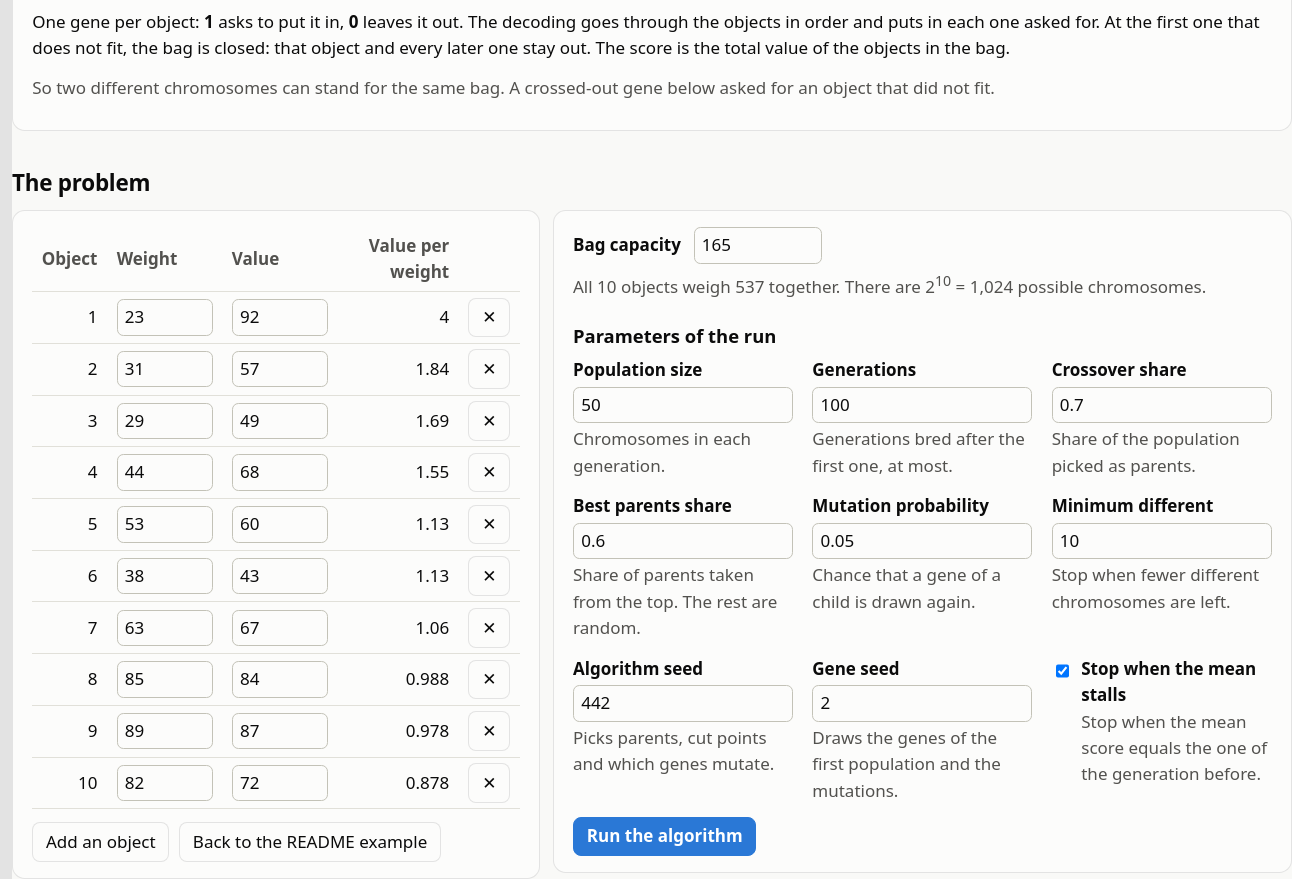
Test case: Knapsack page › shows the error of a run the server refuses
(page scrolled)
Check: the heading "The problem" is shown, box [12, 167, 150, 198]
Click the button "Run the algorithm" at (665,837), box [573, 817, 756, 856]
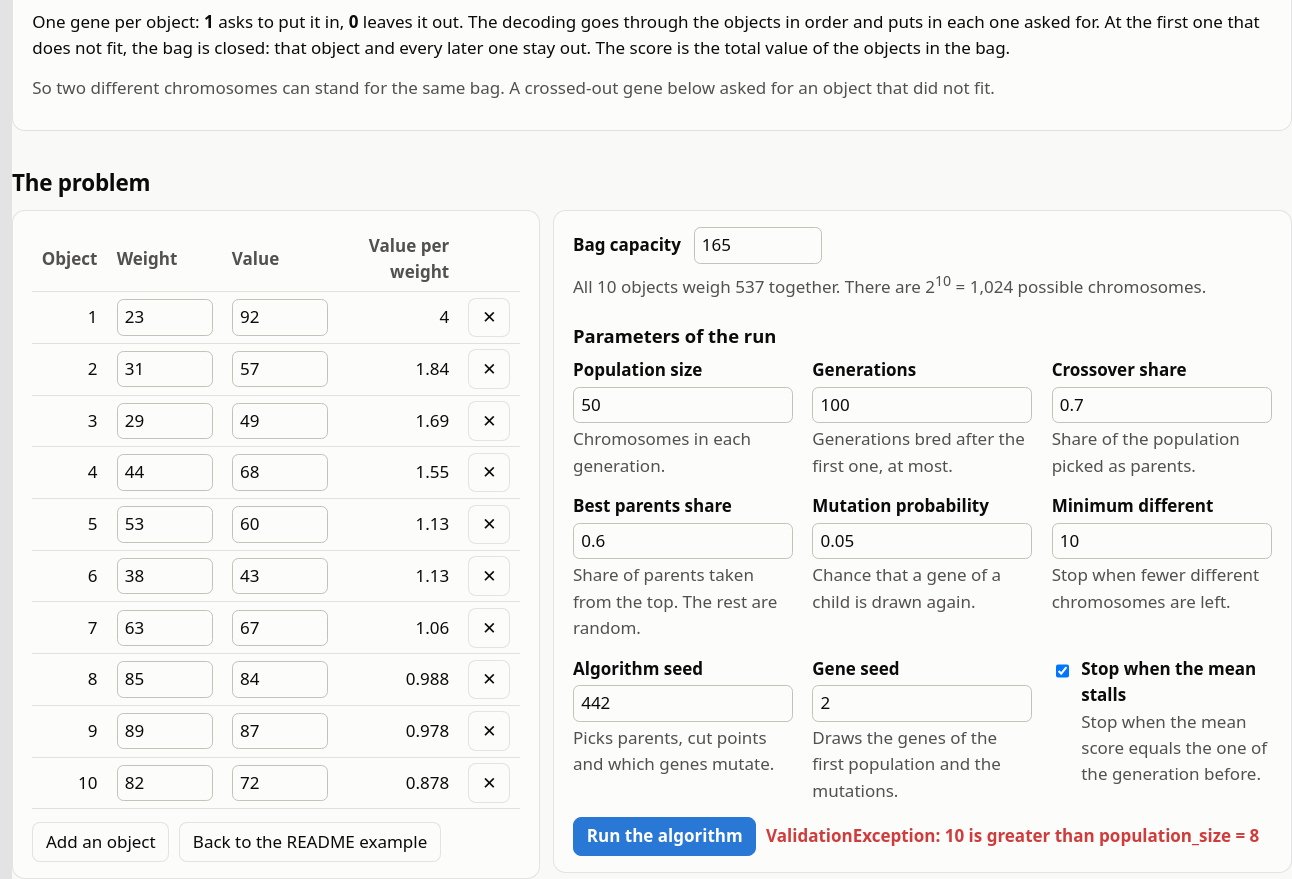
Check: the text "ValidationException: 10 is greater than population_size = 8" is shown, box [766, 823, 1259, 850]
